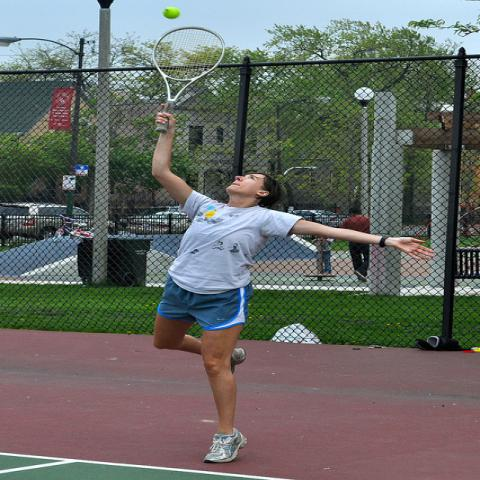car: (1, 202, 114, 241), (128, 210, 190, 235), (290, 210, 345, 228)
